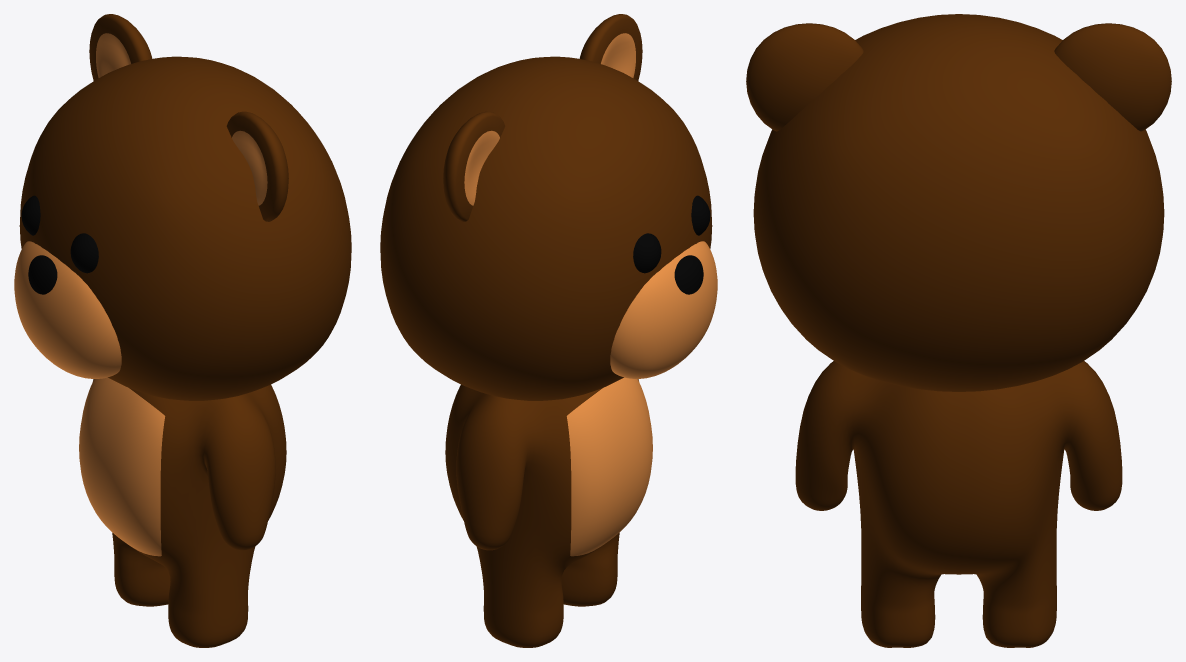
Rendered from Bear Model.fbx.
The picture shows the model from 3 angles, left to right: view 1: azimuth 30°, elevation 25°; view 2: azimuth 150°, elevation 25°; view 3: azimuth 270°, elevation 25°; orthographic projection. The views are drawn at different scales.
Parts seen in each view (by area): view 1: Cube, Cube.001, Cube.002, Cube.004, Cube.003, Sphere, Cube.005; view 2: Cube, Cube.001, Cube.002, Cube.003, Cube.004, Sphere, Cube.005; view 3: Cube, Cube.001, Cube.004, Cube.003.
Part boxes in pixels (x1=…): Cube: x1=19, y1=56, x2=351, y2=400; Cube.001: x1=79, y1=377, x2=286, y2=647; Cube.002: x1=14, y1=241, x2=121, y2=378; Cube.004: x1=226, y1=111, x2=288, y2=221; Cube.003: x1=89, y1=14, x2=152, y2=80; Sphere: x1=21, y1=195, x2=98, y2=273; Cube.005: x1=28, y1=255, x2=57, y2=294; Cube: x1=380, y1=56, x2=712, y2=400; Cube.001: x1=445, y1=377, x2=652, y2=647; Cube.002: x1=610, y1=241, x2=717, y2=378; Cube.003: x1=443, y1=111, x2=505, y2=221; Cube.004: x1=579, y1=14, x2=642, y2=80; Sphere: x1=633, y1=195, x2=710, y2=273; Cube.005: x1=674, y1=255, x2=703, y2=294; Cube: x1=753, y1=14, x2=1164, y2=391; Cube.001: x1=795, y1=361, x2=1122, y2=647; Cube.004: x1=746, y1=23, x2=863, y2=131; Cube.003: x1=1054, y1=23, x2=1171, y2=131.
Bounding box in the file's own units: 170 × 313 × 196.
